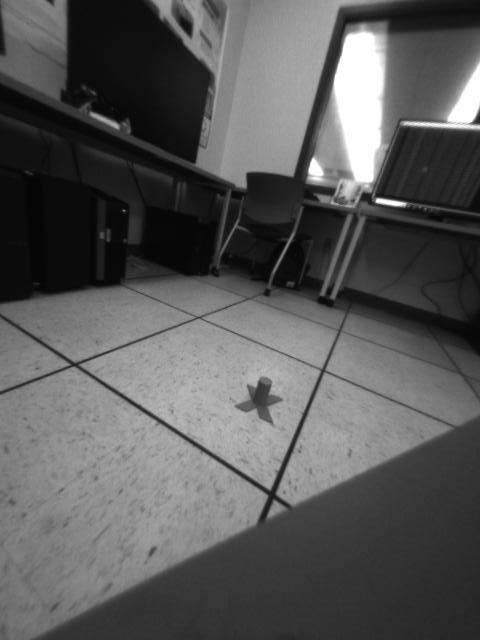X: (234, 377, 283, 426)
